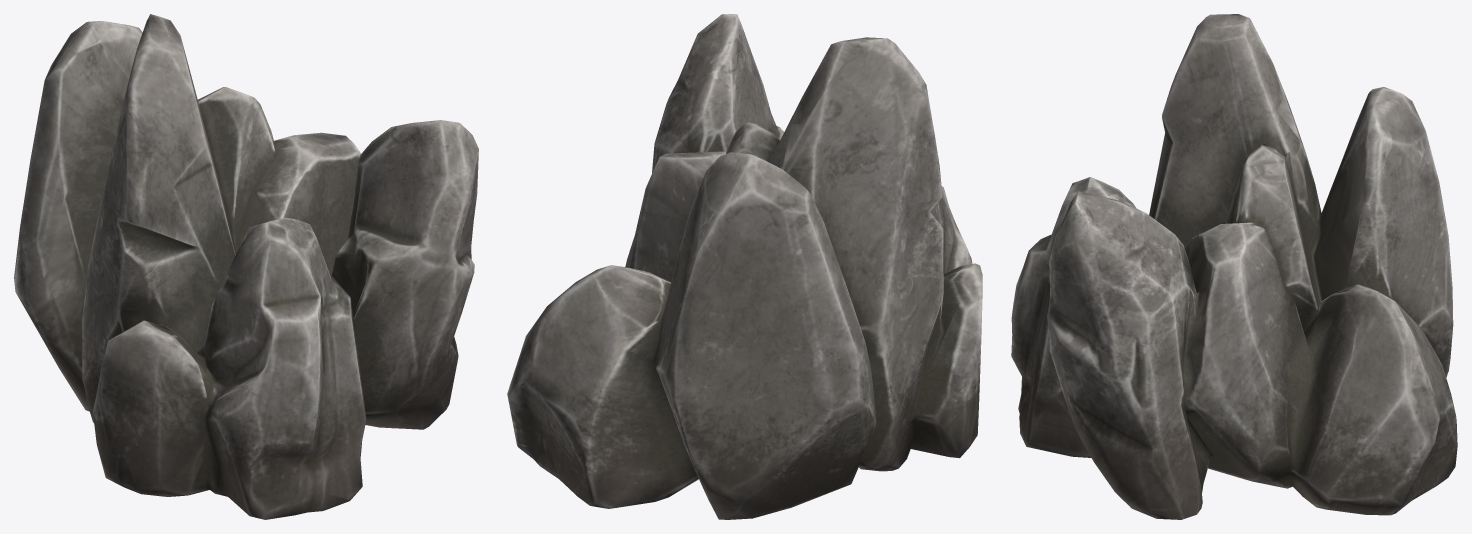
File: BigFormation_02.glb
The picture shows the model from 3 angles, left to right: view 1: azimuth 30°, elevation 25°; view 2: azimuth 150°, elevation 25°; view 3: azimuth 270°, elevation 25°; orthographic projection. The views are drawn at different scales.
Parts seen in each view (by area): view 1: BigFormation_02_LOD1; view 2: BigFormation_02_LOD1; view 3: BigFormation_02_LOD1.
Part boxes in pixels (<box>): BigFormation_02_LOD1: <box>14,14,478,519</box>; BigFormation_02_LOD1: <box>507,14,982,519</box>; BigFormation_02_LOD1: <box>1011,14,1457,519</box>.
Size of the model in its own units: 3.43 by 4 by 4.12.
1 material, 1 textured.
